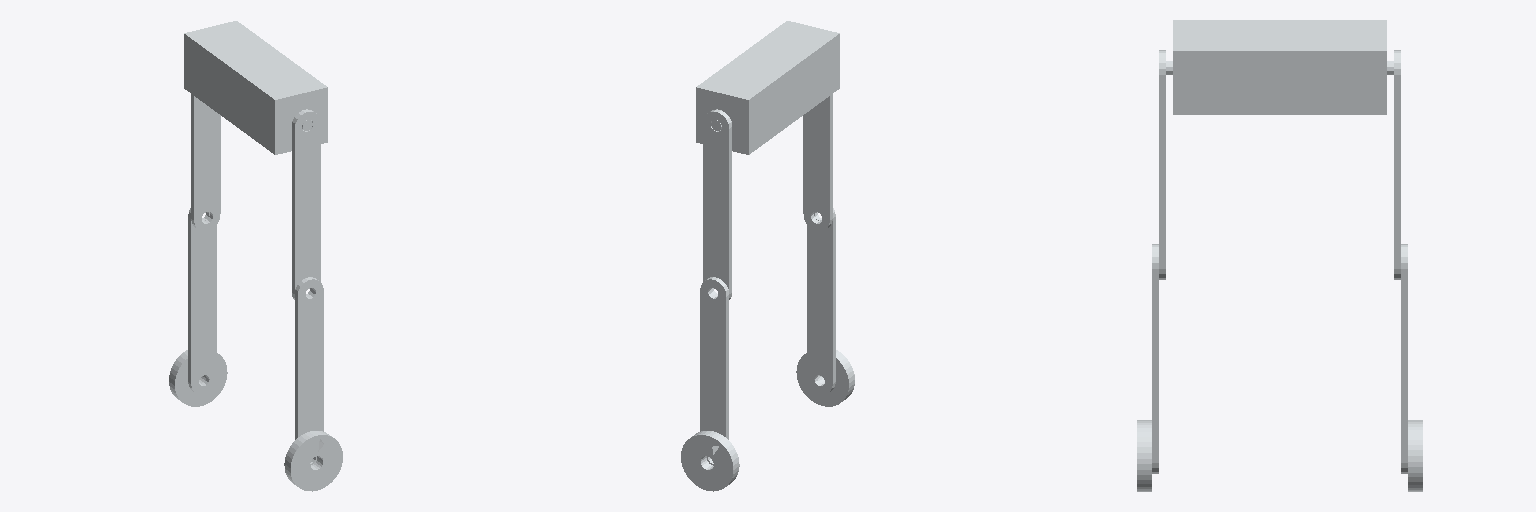
The robot description file, URDF, robot "wbrbodytest":
<?xml version="1.0" encoding="utf-8"?>
<!-- This URDF was automatically created by SolidWorks to URDF Exporter! Originally created by [author] ([email redacted]) 
     Commit Version: 1.6.0-4-g7f85cfe  Build Version: 1.6.7995.38578
     For more information, please see http://wiki.ros.org/sw_urdf_exporter -->
<robot
  name="wbrbodytest">

  <link
    name="base_link">
    <inertial>
      <origin
        xyz="-1.1879E-17 0 -6.3341E-18"
        rpy="0 0 0" />
      <mass
        value="8.1339" />
      <inertia
        ixx="0.068371"
        ixy="-6.4798E-21"
        ixz="-5.4546E-19"
        iyy="0.013502"
        iyz="0"
        izz="0.068371" />
    </inertial>
    <visual>
      <origin
        xyz="0 0 0"
        rpy="0 0 0" />
      <geometry>
        <mesh
          filename="package://wbrbodytest/meshes/base_link.STL" />
      </geometry>
      <material
        name="mt1">
        <color
          rgba="0.89804 0.91765 0.92941 1" />
      </material>
    </visual>
    <collision>
      <origin
        xyz="0 0 0"
        rpy="0 0 0" />
      <geometry>
        <mesh
          filename="package://wbrbodytest/meshes/base_link.STL" />
      </geometry>
    </collision>
  </link>



  <link
    name="left_thigh">
    <inertial>
      <origin
        xyz="0.15 -1.3961E-18 -0.005"
        rpy="0 0 0" />
      <mass
        value="0.43749" />
      <inertia
        ixx="9.5683E-05"
        ixy="-8.886E-20"
        ixz="6.421E-22"
        iyy="0.0039485"
        iyz="-4.7646E-23"
        izz="0.0040369" />
    </inertial>
    <visual>
      <origin
        xyz="0 0 0"
        rpy="0 0 0" />
      <geometry>
        <mesh
          filename="package://wbrbodytest/meshes/left_thigh.STL" />
      </geometry>
      <material
        name="mt1">
        <color
          rgba="0.89804 0.91765 0.92941 1" />
      </material>
    </visual>
    <collision>
      <origin
        xyz="0 0 0"
        rpy="0 0 0" />
      <geometry>
        <mesh
          filename="package://wbrbodytest/meshes/left_thigh.STL" />
      </geometry>
    </collision>
  </link>



  <joint
    name="left_hip_joint"
    type="revolute">
    <origin
      xyz="0 0.17 0"
      rpy="-1.5708 1.5708 0" />
    <parent
      link="base_link" />
    <child
      link="left_thigh" />
    <axis
      xyz="0 0 1" />
    <limit
      lower="-3.14"
      upper="3.14"
      effort="50"
      velocity="50" />
  </joint>




  <link
    name="left_shank">
    <inertial>
      <origin
        xyz="0.15 -2.144E-18 0.005"
        rpy="0 0 0" />
      <mass
        value="0.44105" />
      <inertia
        ixx="9.591E-05"
        ixy="-9.7189E-20"
        ixz="1.024E-21"
        iyy="0.0040289"
        iyz="9.5291E-23"
        izz="0.0041175" />
    </inertial>
    <visual>
      <origin
        xyz="0 0 0"
        rpy="0 0 0" />
      <geometry>
        <mesh
          filename="package://wbrbodytest/meshes/left_shank.STL" />
      </geometry>
      <material
        name="mt1">
        <color
          rgba="0.89804 0.91765 0.92941 1" />
      </material>
    </visual>
    <collision>
      <origin
        xyz="0 0 0"
        rpy="0 0 0" />
      <geometry>
        <mesh
          filename="package://wbrbodytest/meshes/left_shank.STL" />
      </geometry>
    </collision>
  </link>



  <joint
    name="left_knee_joint"
    type="revolute">
    <origin
      xyz="0.3 0 0"
      rpy="0 0 0" />
    <parent
      link="left_thigh" />
    <child
      link="left_shank" />
    <axis
      xyz="0 0 1" />
    <limit
      lower="-3.14"
      upper="3.14"
      effort="50"
      velocity="50" />
  </joint>

  <link
    name="left_wheel">
    <inertial>
      <origin
        xyz="0.00049825 -0.00026472 0.01"
        rpy="0 0 0" />
      <mass
        value="0.39086" />
      <inertia
        ixx="0.00027537"
        ixy="-3.1007E-06"
        ixz="4.7363E-21"
        iyy="0.00027122"
        iyz="1.0958E-20"
        izz="0.00052053" />
    </inertial>
    <visual>
      <origin
        xyz="0 0 0"
        rpy="0 0 0" />
      <geometry>
        <mesh
          filename="package://wbrbodytest/meshes/left_wheel.STL" />
      </geometry>
      <material
        name="mt1">
        <color
          rgba="0.89804 0.91765 0.92941 1" />
      </material>
    </visual>
    <collision>
      <origin
        xyz="0 0 0"
        rpy="0 0 0" />
      <geometry>
        <mesh
          filename="package://wbrbodytest/meshes/left_wheel.STL" />
      </geometry>
    </collision>
  </link>


  <joint
    name="left_wheel_joint"
    type="continuous">
    <origin
      xyz="0.3 0 0.01"
      rpy="0 0 0" />
    <parent
      link="left_shank" />
    <child
      link="left_wheel" />
    <axis
      xyz="0 0 1" />
  </joint>


<!-- 下面是右腿的部分 -->


  <link
    name="right_thigh">
    <inertial>
      <origin
        xyz="0.15 -4.7509E-19 0.005"
        rpy="0 0 0" />
      <mass
        value="0.43749" />
      <inertia
        ixx="9.5683E-05"
        ixy="3.1563E-20"
        ixz="2.6559E-21"
        iyy="0.0039485"
        iyz="-4.7646E-23"
        izz="0.0040369" />
    </inertial>
    <visual>
      <origin
        xyz="0 0 0"
        rpy="0 0 0" />
      <geometry>
        <mesh
          filename="package://wbrbodytest/meshes/right_thigh.STL" />
      </geometry>
      <material
        name="mt1">
        <color
          rgba="0.89804 0.91765 0.92941 1" />
      </material>
    </visual>
    <collision>
      <origin
        xyz="0 0 0"
        rpy="0 0 0" />
      <geometry>
        <mesh
          filename="package://wbrbodytest/meshes/right_thigh.STL" />
      </geometry>
    </collision>
  </link>


  <joint
    name="right_hip_joint"
    type="revolute">
    <origin
      xyz="0 -0.17 0"
      rpy="-1.5708 1.5708 0" />
    <parent
      link="base_link" />
    <child
      link="right_thigh" />
    <axis
      xyz="0 0 1" />
    <limit
      lower="-3.14"
      upper="3.14"
      effort="50"
      velocity="50" />
  </joint>

  <link
    name="right_shank">
    <inertial>
      <origin
        xyz="0.15 -2.0207E-18 -0.005"
        rpy="0 0 0" />
      <mass
        value="0.44105" />
      <inertia
        ixx="9.591E-05"
        ixy="-9.7189E-20"
        ixz="1.024E-21"
        iyy="0.0040289"
        iyz="9.5291E-23"
        izz="0.0041175" />
    </inertial>
    <visual>
      <origin
        xyz="0 0 0"
        rpy="0 0 0" />
      <geometry>
        <mesh
          filename="package://wbrbodytest/meshes/right_shank.STL" />
      </geometry>
      <material
        name="mt1">
        <color
          rgba="0.89804 0.91765 0.92941 1" />
      </material>
    </visual>
    <collision>
      <origin
        xyz="0 0 0"
        rpy="0 0 0" />
      <geometry>
        <mesh
          filename="package://wbrbodytest/meshes/right_shank.STL" />
      </geometry>
    </collision>
  </link>


  <joint
    name="right_knee_joint"
    type="revolute">
    <origin
      xyz="0.3 0 0"
      rpy="0 0 0" />
    <parent
      link="right_thigh" />
    <child
      link="right_shank" />
    <axis
      xyz="0 0 1" />
    <limit
      lower="-3.14"
      upper="3.14"
      effort="50"
      velocity="50" />
  </joint>


  <link
    name="right_wheel">
    <inertial>
      <origin
        xyz="0.00054909 0.00012975 -0.01"
        rpy="0 0 0" />
      <mass
        value="0.39086" />
      <inertia
        ixx="0.00027664"
        ixy="1.6581E-06"
        ixz="-6.3511E-21"
        iyy="0.00026995"
        iyz="5.2427E-21"
        izz="0.00052053" />
    </inertial>
    <visual>
      <origin
        xyz="0 0 0"
        rpy="0 0 0" />
      <geometry>
        <mesh
          filename="package://wbrbodytest/meshes/right_wheel.STL" />
      </geometry>
      <material
        name="mt1">
        <color
          rgba="0.89804 0.91765 0.92941 1" />
      </material>
    </visual>
    <collision>
      <origin
        xyz="0 0 0"
        rpy="0 0 0" />
      <geometry>
        <mesh
          filename="package://wbrbodytest/meshes/right_wheel.STL" />
      </geometry>
    </collision>
  </link>



  <joint
    name="right_wheel_joint"
    type="continuous">
    <origin
      xyz="0.3 0 -0.01"
      rpy="0 0 0" />
    <parent
      link="right_shank" />
    <child
      link="right_wheel" />
    <axis
      xyz="0 0 1" />
  </joint>

</robot>

--- What the picture shows (computed from the rendered views, not written in the file) ---
Views: 3 orthographic renders of the robot side by side, from view 1: azimuth 30°, elevation 25°; view 2: azimuth 150°, elevation 25°; view 3: azimuth 270°, elevation 25°.
Robot: wbrbodytest — 7 links, 6 joints (4 revolute, 2 continuous); root link base_link; default pose: every joint at zero.
Links seen in each view (by area): view 1: base_link, right_thigh, left_shank, right_shank, left_thigh, right_wheel, left_wheel; view 2: base_link, left_thigh, right_shank, left_shank, right_thigh, left_wheel, right_wheel; view 3: base_link, left_thigh, left_shank, right_thigh, right_shank, left_wheel, right_wheel.
Boxes of the visible links, x1=… form: base_link: x1=184, y1=21, x2=327, y2=154; right_thigh: x1=292, y1=109, x2=320, y2=299; left_shank: x1=188, y1=208, x2=216, y2=394; right_shank: x1=295, y1=277, x2=323, y2=465; left_thigh: x1=191, y1=94, x2=220, y2=231; right_wheel: x1=284, y1=431, x2=342, y2=491; left_wheel: x1=169, y1=350, x2=227, y2=406; base_link: x1=696, y1=21, x2=839, y2=154; left_thigh: x1=703, y1=109, x2=731, y2=299; right_shank: x1=807, y1=208, x2=835, y2=394; left_shank: x1=700, y1=277, x2=728, y2=465; right_thigh: x1=803, y1=94, x2=832, y2=231; left_wheel: x1=681, y1=431, x2=739, y2=491; right_wheel: x1=796, y1=350, x2=854, y2=406; base_link: x1=1166, y1=20, x2=1393, y2=114; left_thigh: x1=1394, y1=50, x2=1400, y2=279; left_shank: x1=1401, y1=244, x2=1407, y2=473; right_thigh: x1=1159, y1=50, x2=1165, y2=279; right_shank: x1=1152, y1=244, x2=1158, y2=473; left_wheel: x1=1408, y1=420, x2=1422, y2=491; right_wheel: x1=1137, y1=420, x2=1151, y2=491.
Bounding box of the posed robot: 0.1 × 0.4 × 0.7 m (x, y, z).
7 mesh visuals loaded from 7 distinct referenced files (7 binary STL).
